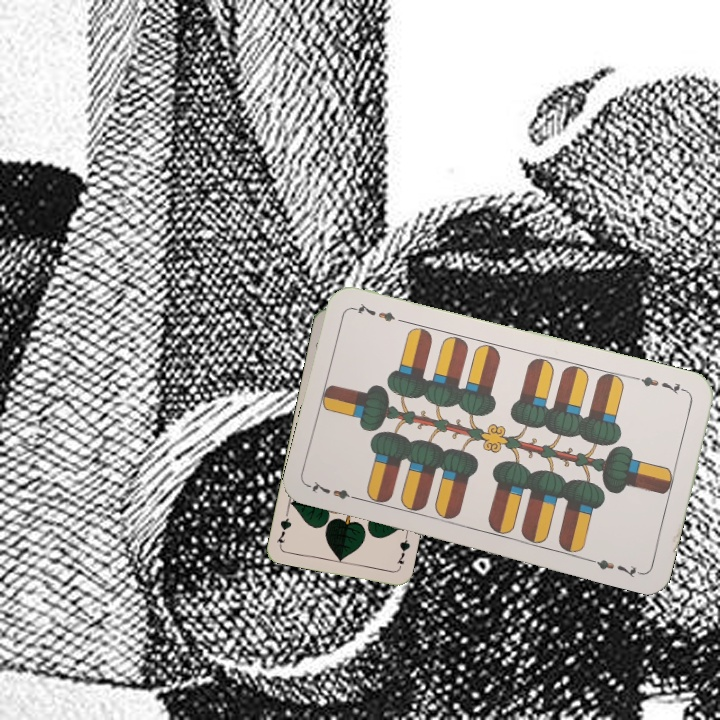E7: (306, 477, 364, 504), (632, 372, 691, 397)
G7: (393, 531, 413, 572)
